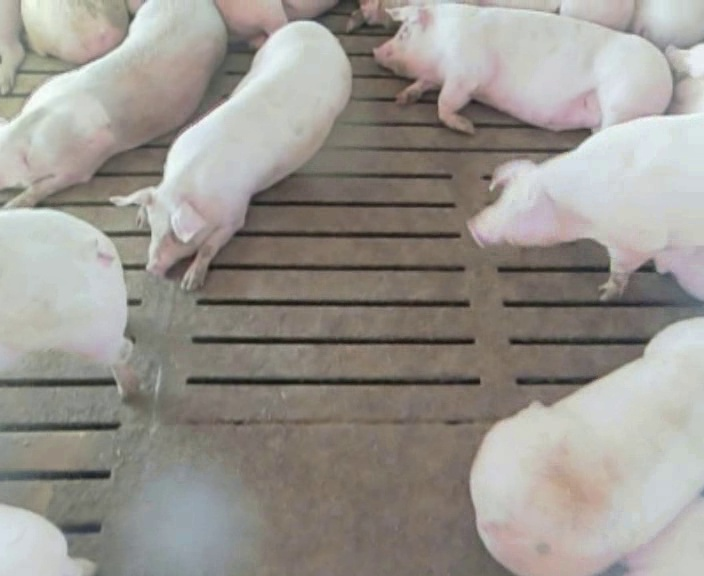pig: (111, 21, 351, 289), (470, 317, 703, 574), (0, 2, 225, 205), (468, 113, 703, 298), (374, 3, 671, 132), (21, 1, 128, 63), (216, 0, 336, 47), (632, 1, 703, 48)
